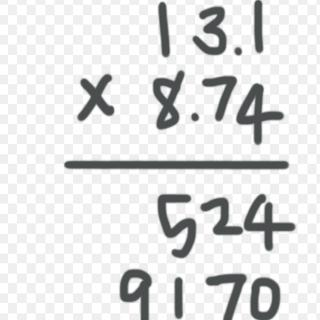.: (186, 104, 206, 129), (231, 42, 245, 60)
0: (247, 272, 285, 319)
1: (151, 1, 177, 63), (248, 1, 268, 58), (166, 271, 189, 319)
2: (197, 192, 242, 243)
3: (186, 3, 233, 59)
4: (240, 191, 295, 253), (236, 82, 285, 148)
5: (142, 184, 197, 262)
7: (204, 267, 246, 319), (201, 71, 237, 122)
8: (145, 64, 188, 132)
9: (111, 265, 157, 319)
